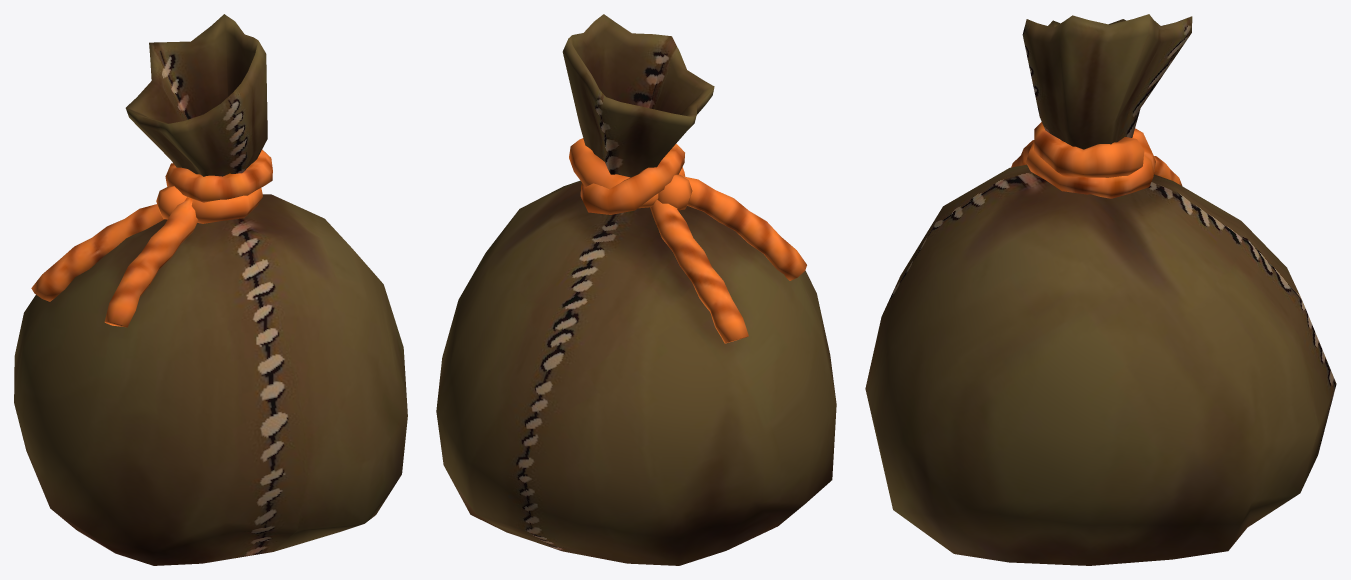
The model's file is Bag.fbx.
3 renders of one model, left to right at view 1: azimuth 30°, elevation 25°; view 2: azimuth 150°, elevation 25°; view 3: azimuth 270°, elevation 25°, orthographic. The views are drawn at different scales.
Visible parts, largest first — view 1: Bag; view 2: Bag; view 3: Bag.
Boxes of the visible parts, left/top/right/bottom form: Bag: left=14, top=14, right=407, bottom=565; Bag: left=436, top=14, right=836, bottom=565; Bag: left=865, top=14, right=1336, bottom=565.
Bounding box in the file's own units: 7.09 × 9.18 × 7.76.
